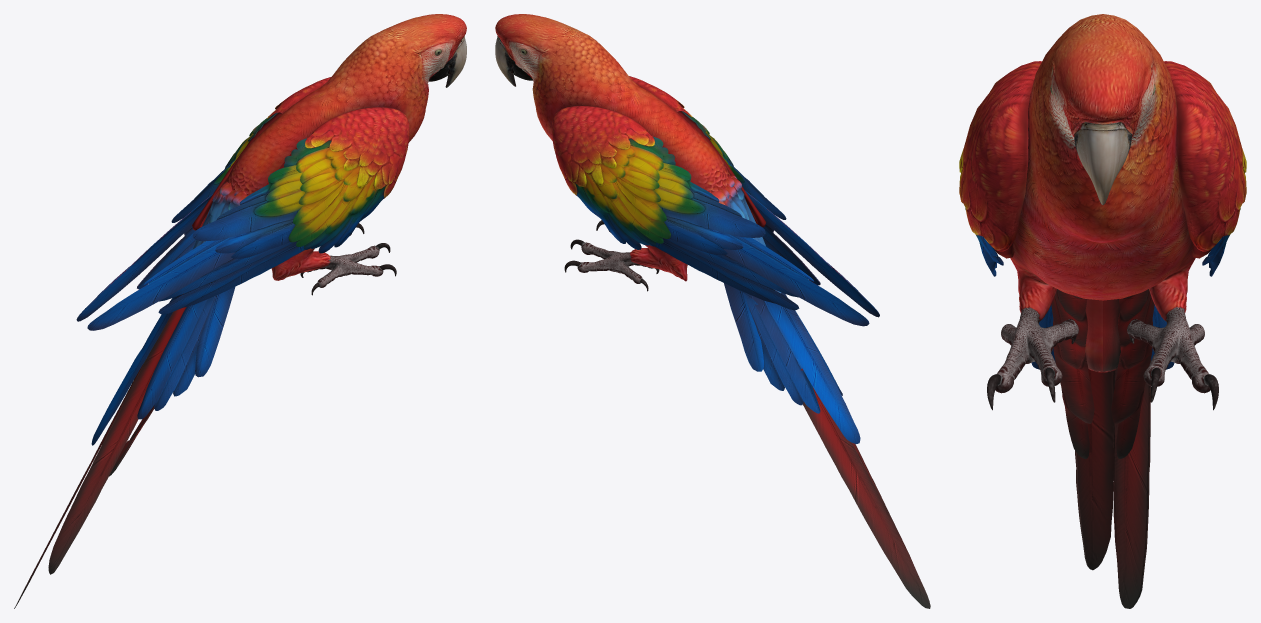
The model's file is parrot.glb.
3 renders of one model, left to right at view 1: azimuth 30°, elevation 25°; view 2: azimuth 150°, elevation 25°; view 3: azimuth 270°, elevation 25°, orthographic. The views are drawn at different scales.
Parts seen in each view (by area): view 1: node_id30_0; view 2: node_id30_0; view 3: node_id30_0.
Boxes of the visible parts, box(x1,y1,x2,y2) form: node_id30_0: box(14, 14, 466, 608); node_id30_0: box(495, 14, 930, 608); node_id30_0: box(959, 14, 1246, 608).
Bounding box in the file's own units: 0.9233 × 0.9783 × 0.2728.
Materials: 1 (1 with a texture image).
